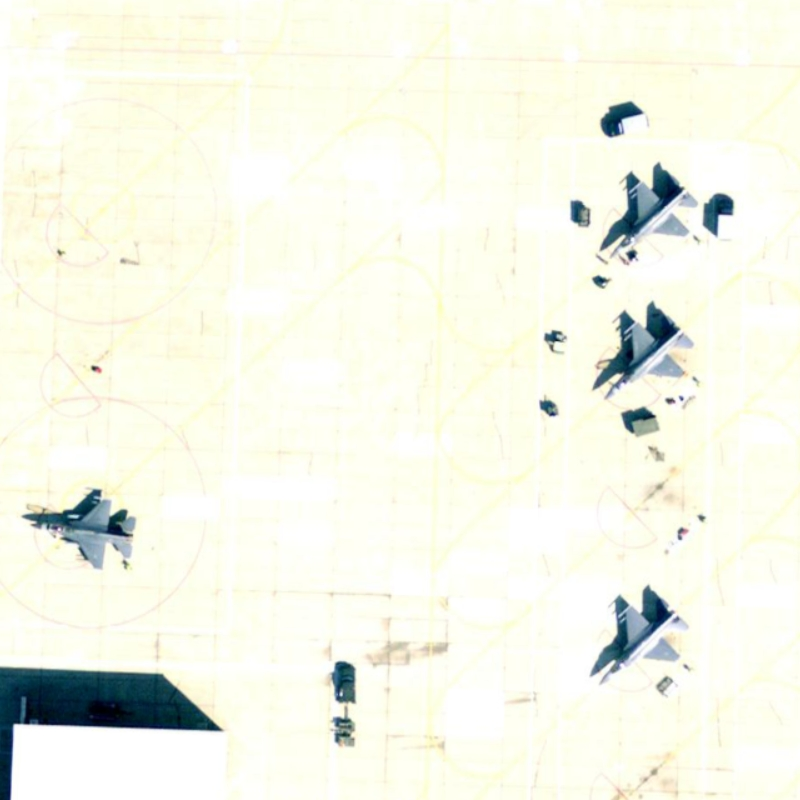A5: (604, 170, 704, 266), (596, 591, 691, 688), (601, 311, 696, 405), (27, 496, 138, 574)
